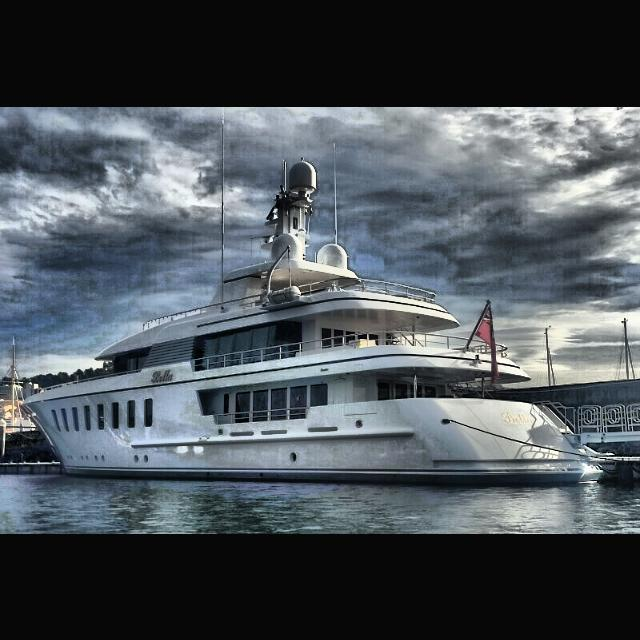yacht: (19, 154, 605, 486)
